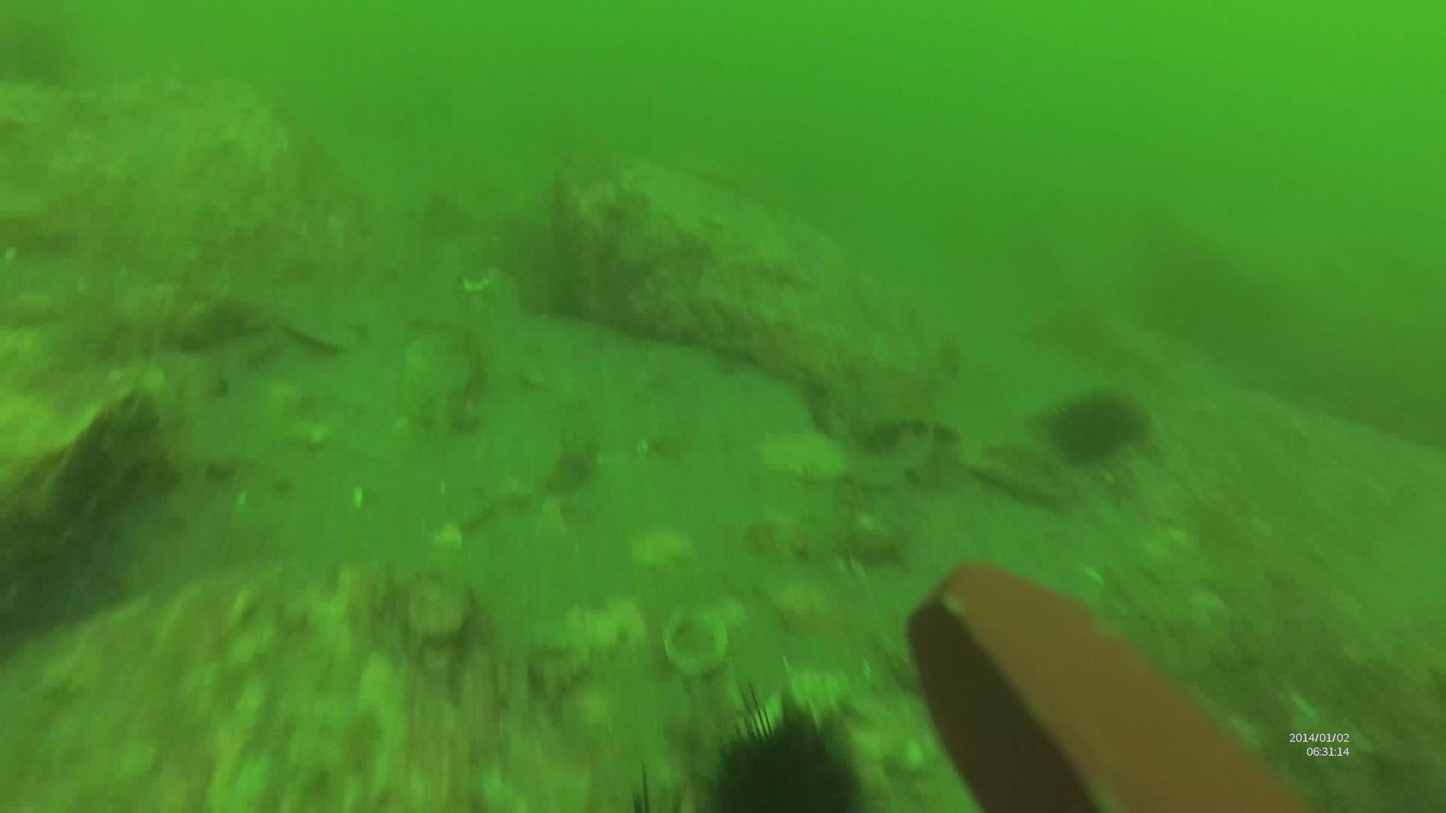starfish: (703, 694, 857, 813), (1043, 390, 1150, 470)
